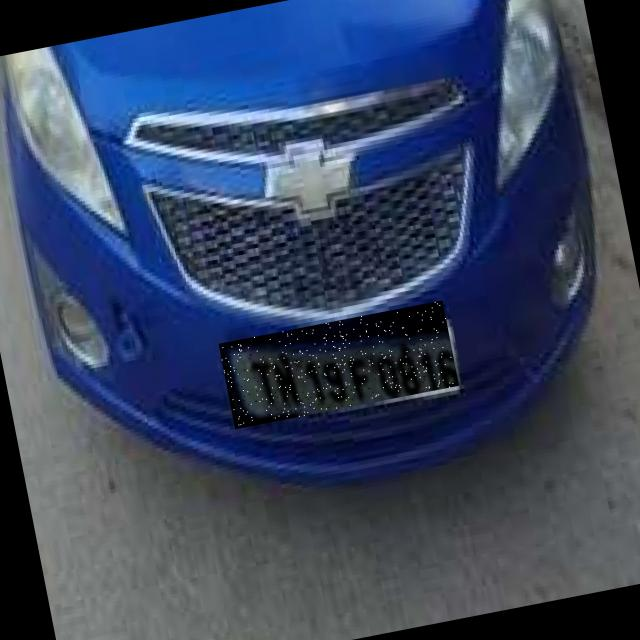Plate: (220, 301, 460, 430)
